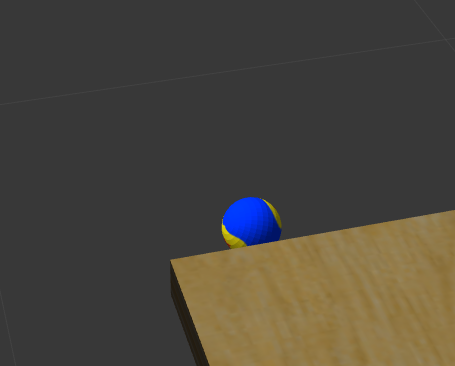toy story ball: (220, 196, 282, 249)
